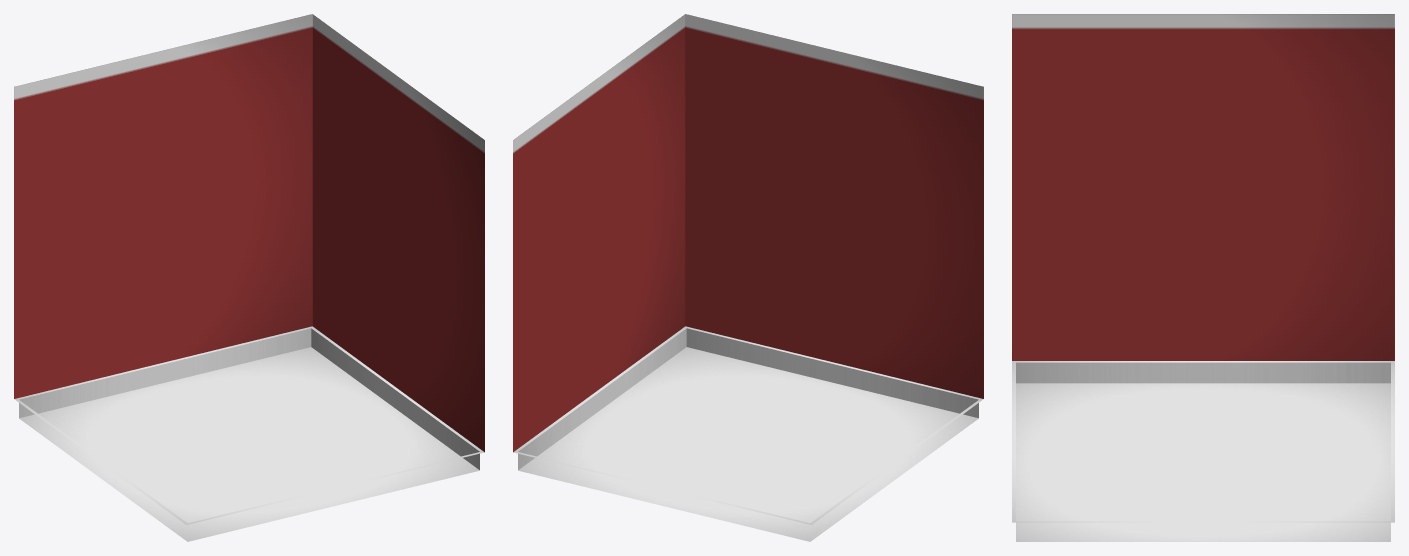
The model's file is room.glb.
The picture shows the model from 3 angles, left to right: view 1: azimuth 30°, elevation 25°; view 2: azimuth 150°, elevation 25°; view 3: azimuth 270°, elevation 25°; orthographic projection. The views are drawn at different scales.
Parts seen in each view (by area): view 1: Cube; view 2: Cube; view 3: Cube.
Part boxes in pixels (left/top/right/bottom): Cube: left=14, top=14, right=484, bottom=541; Cube: left=513, top=14, right=983, bottom=541; Cube: left=1012, top=14, right=1394, bottom=541.
Bounding box in the file's own units: 2 × 2.12 × 2.
1 material, 1 textured.
